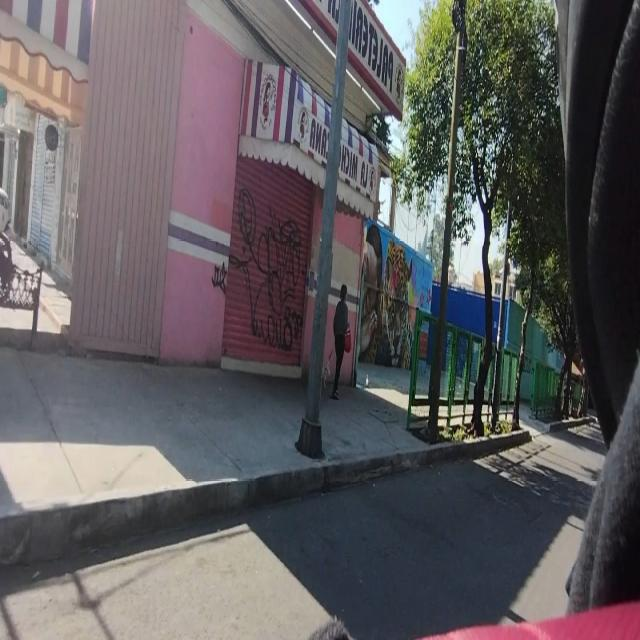adult: (332, 284, 350, 402)
